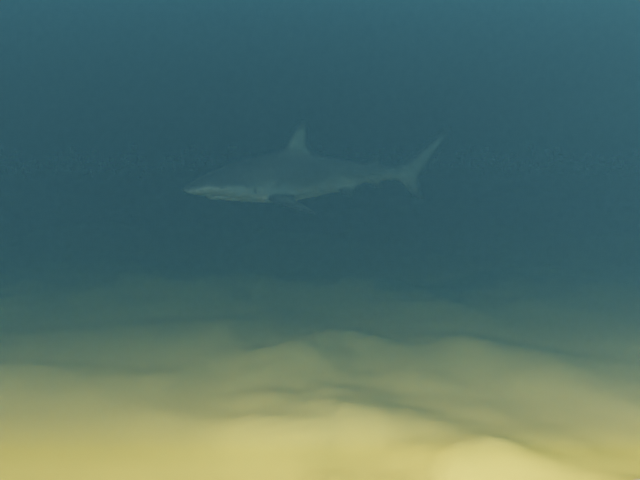Carribean Shark.001: (182, 122, 448, 214)
